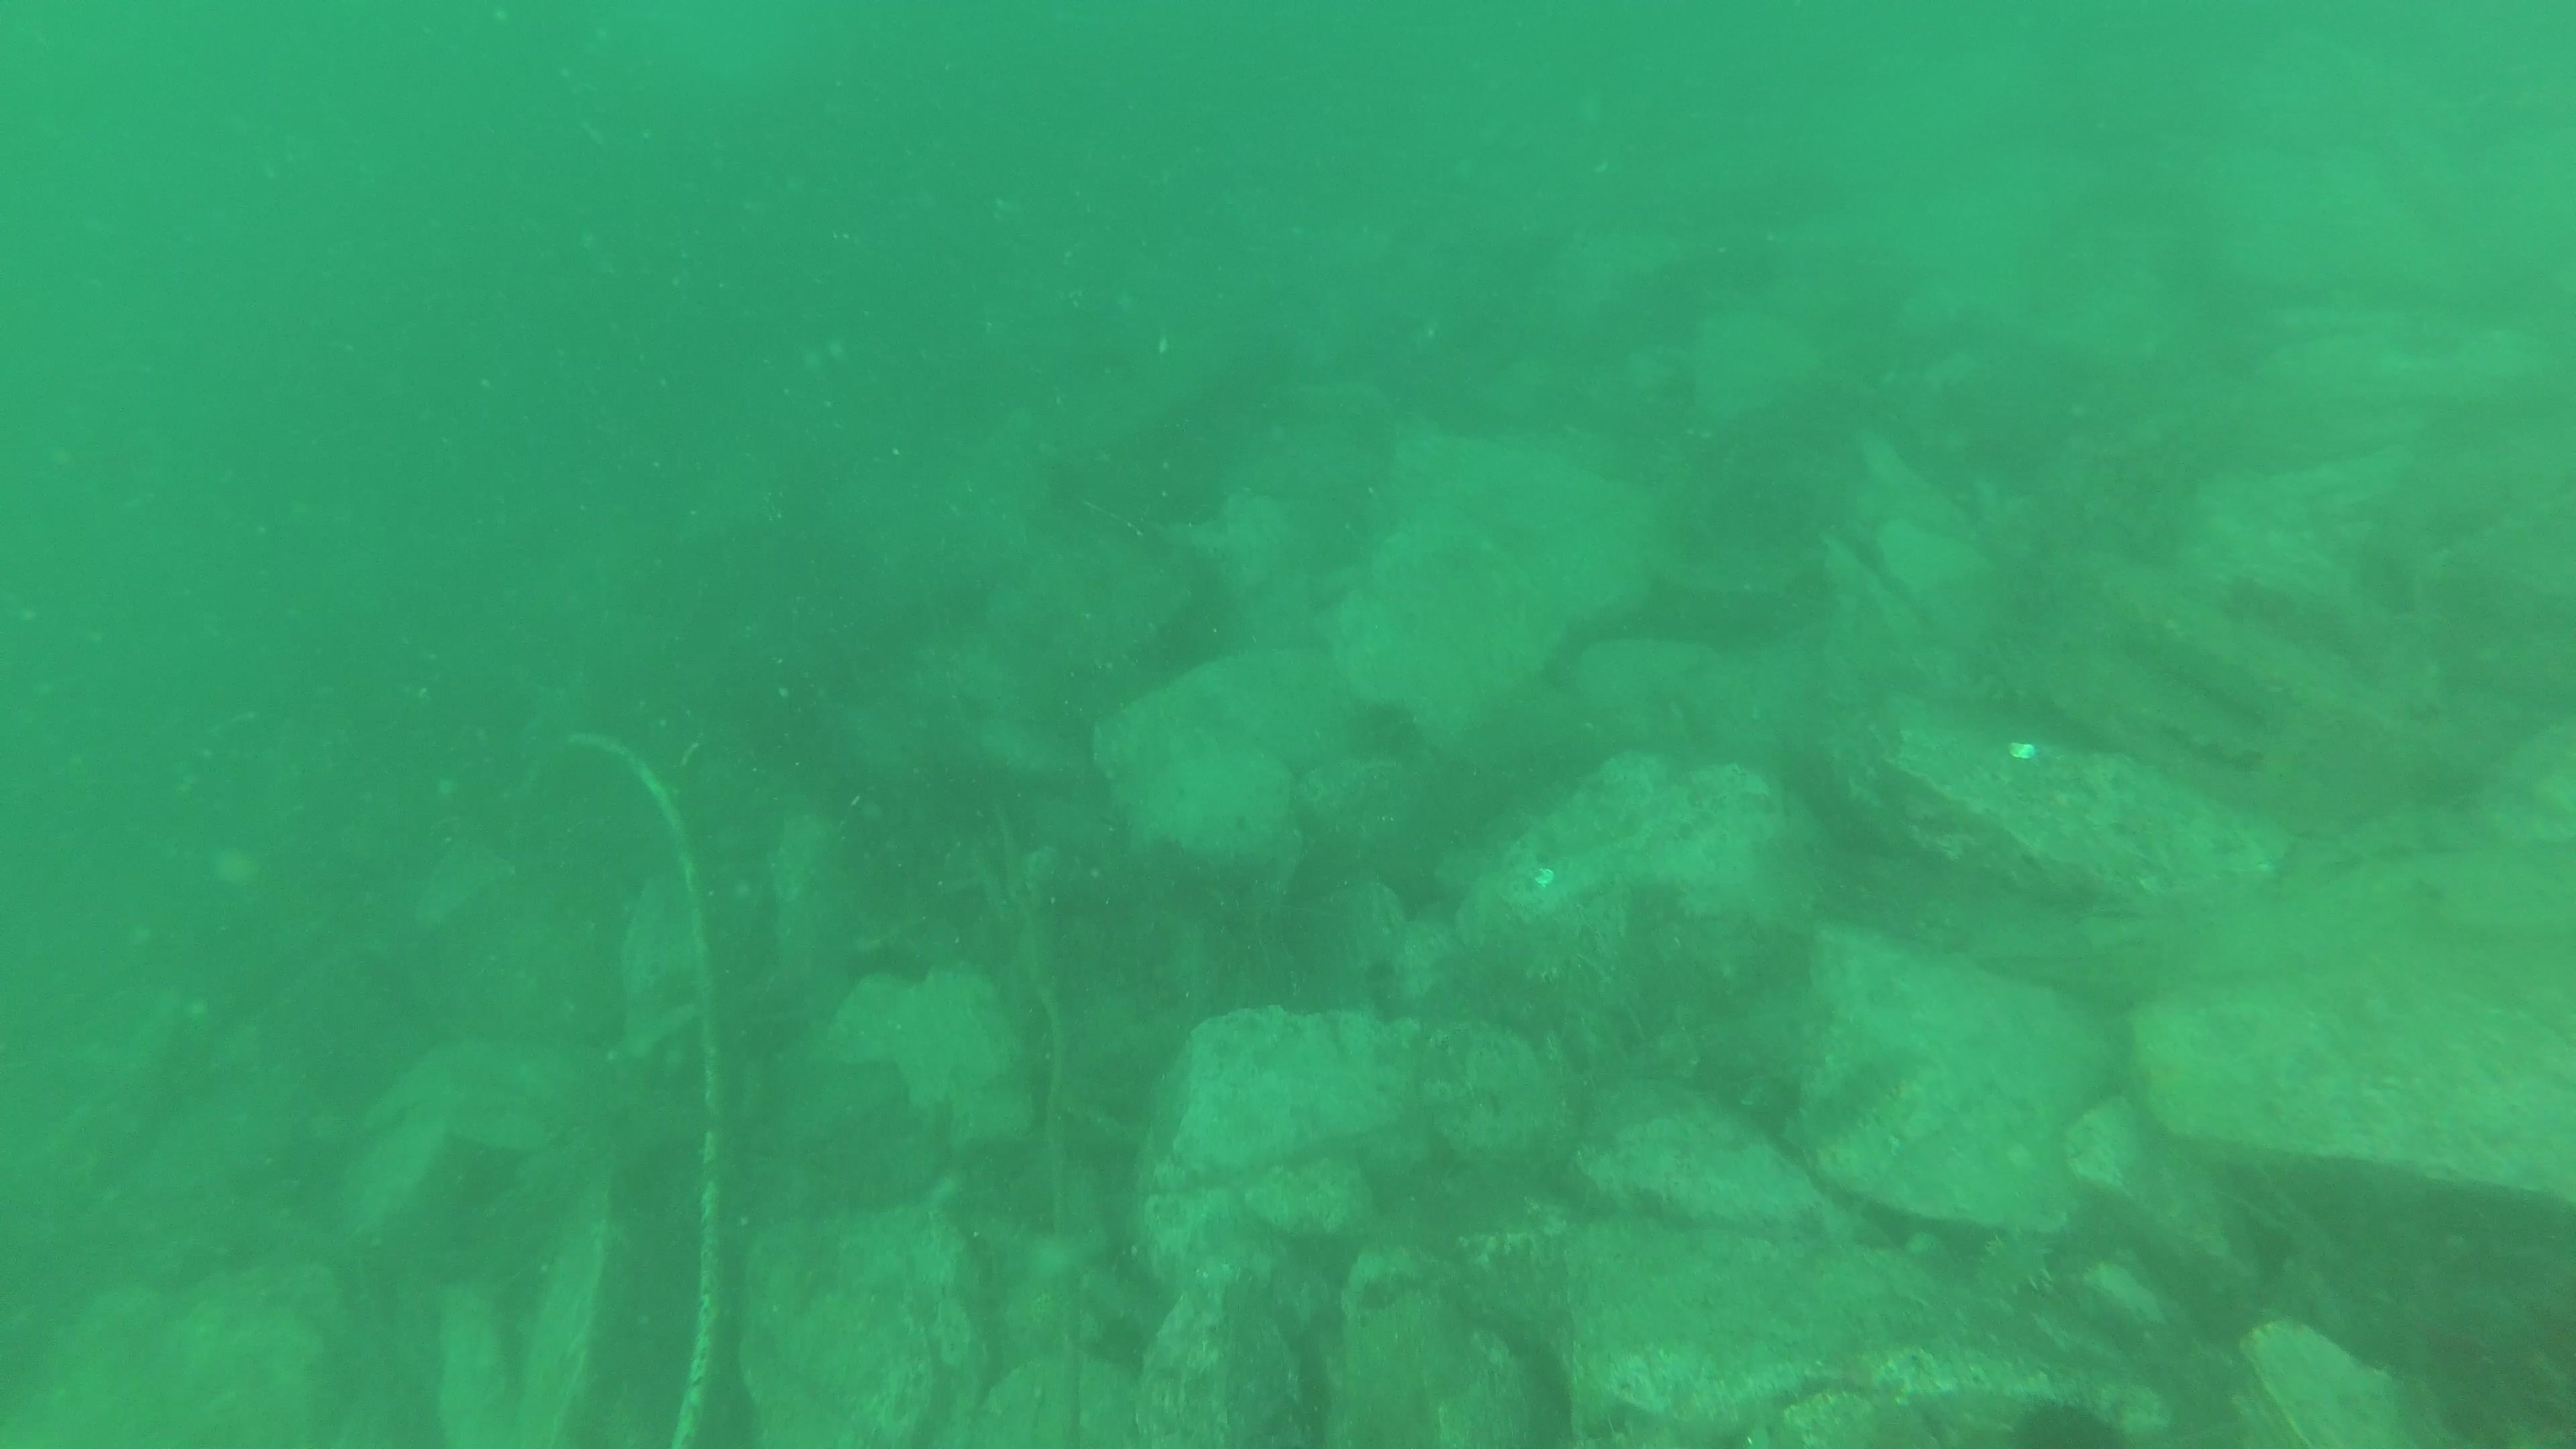echinus: (1350, 694, 1438, 775), (2010, 1394, 2132, 1449)
holothurian: (2047, 536, 2341, 722), (2006, 649, 2286, 805), (1960, 1221, 2061, 1306)
